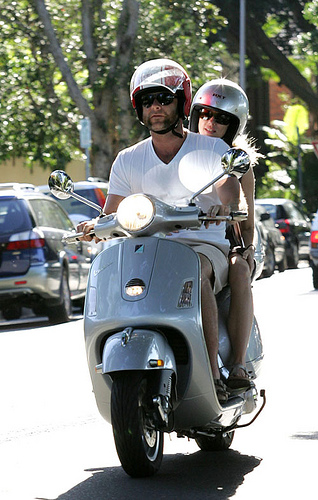helmet: (117, 55, 199, 105), (196, 78, 249, 119)
